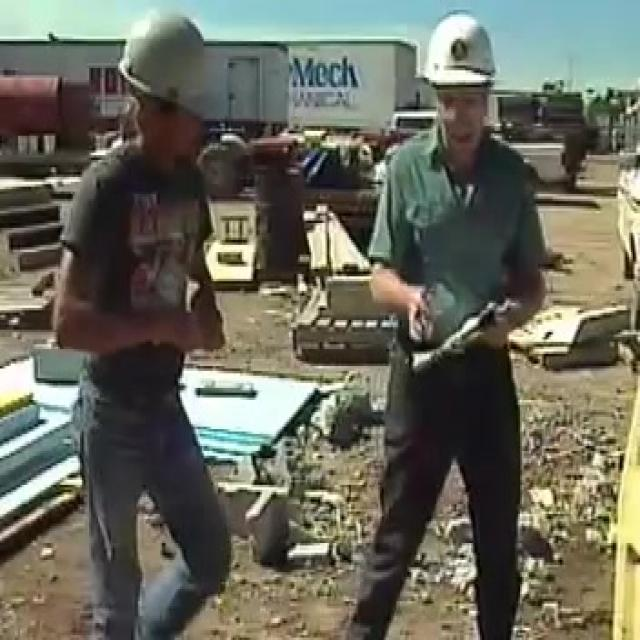Safety-Helmet: (102, 2, 225, 134), (411, 5, 511, 104)
